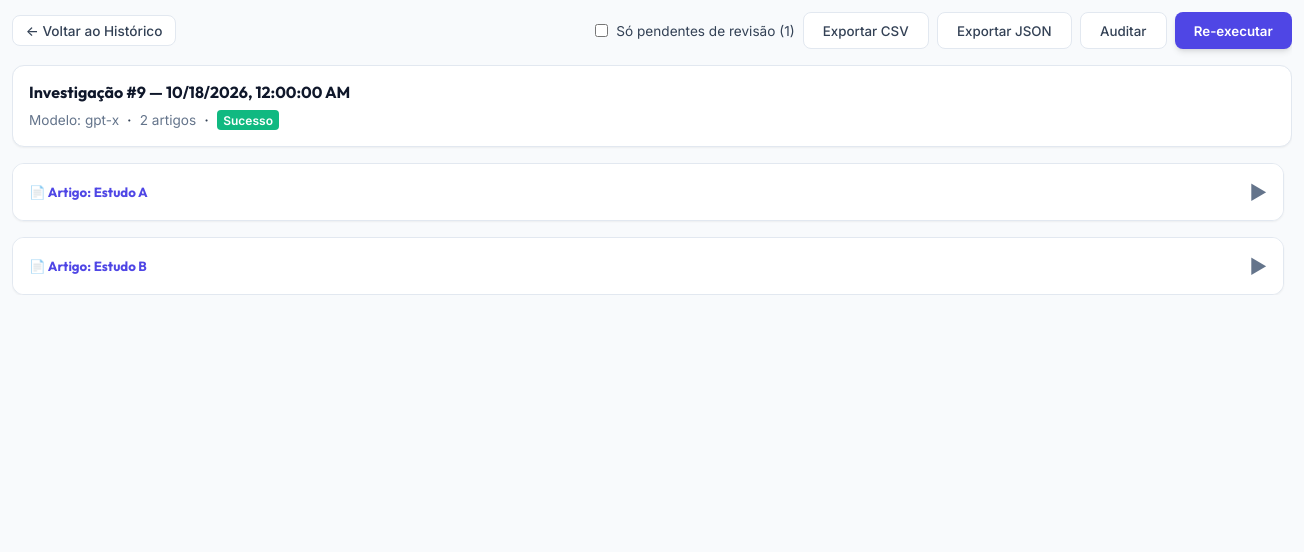
Test: InvestigationDetailView, reviewing AI answers (#47) › offers no review on an answer that failed
The width and height of the screenshot is (1304, 552).
Click the heading "📄 Artigo: Estudo B".
click(88, 266)  # box [29,258,147,274]
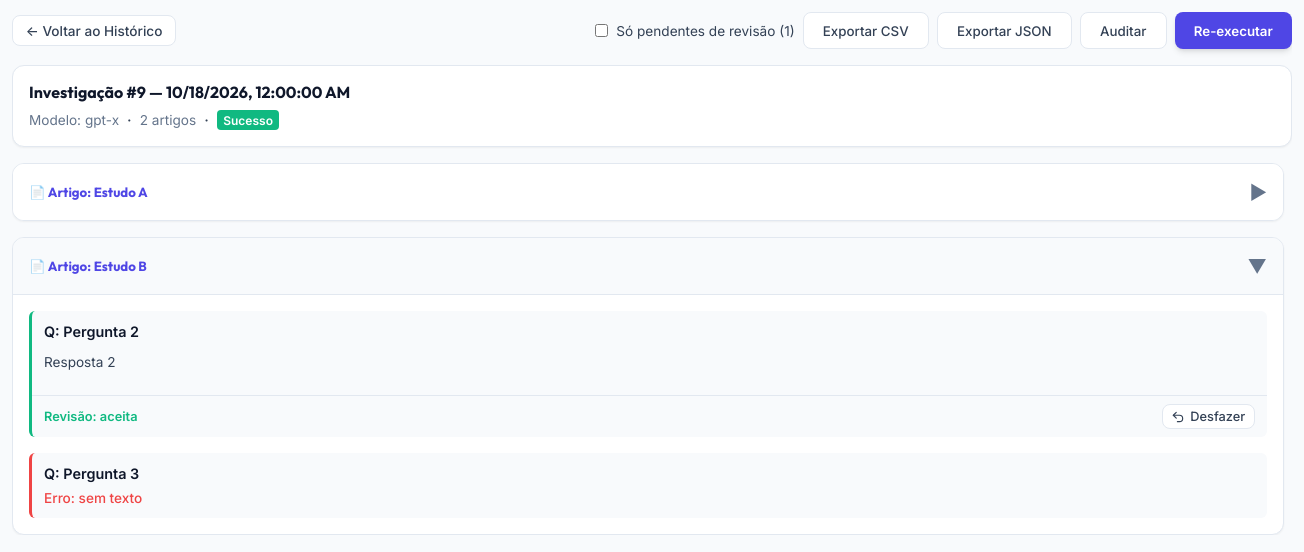
expect the text "Erro: sem texto" is shown: met, box [44,490,142,506]
expect the number of elements named "Revisão da resposta" is 1: met, box [32,395,1267,437]
